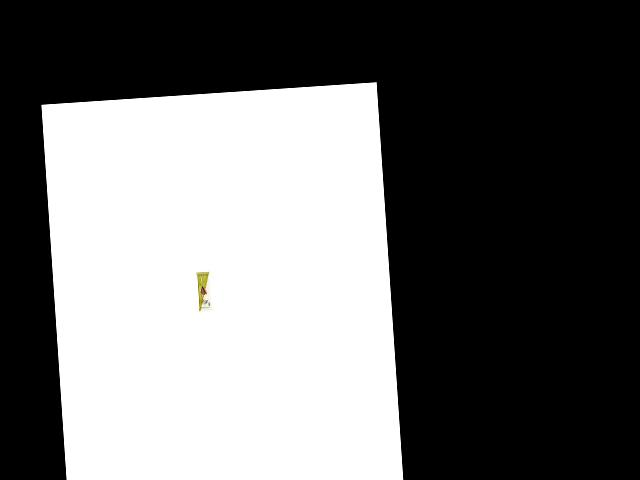chocolate: (192, 269, 214, 313)
